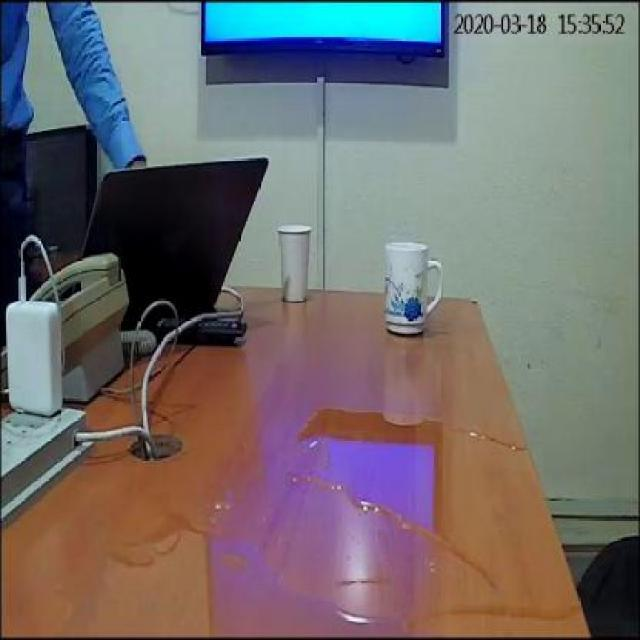spill: (298, 402, 582, 616), (106, 515, 400, 634)
